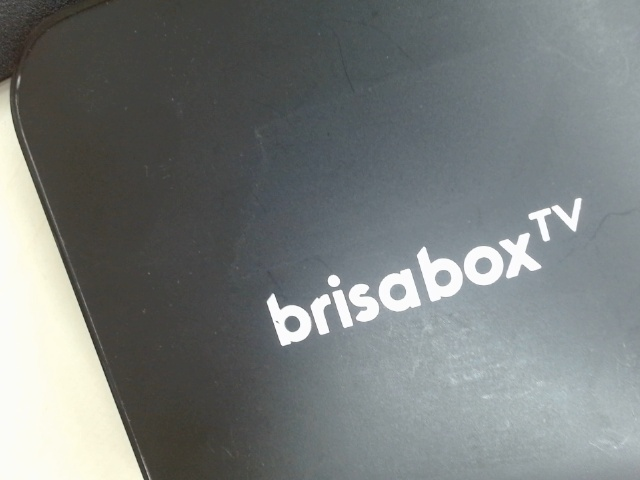AH_brisabox: (242, 192, 597, 351)
